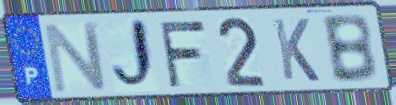2: (217, 15, 267, 88)
B: (318, 11, 380, 85)
F: (155, 18, 207, 90)
J: (109, 16, 160, 95)
K: (270, 16, 322, 83)
N: (42, 20, 110, 95)
